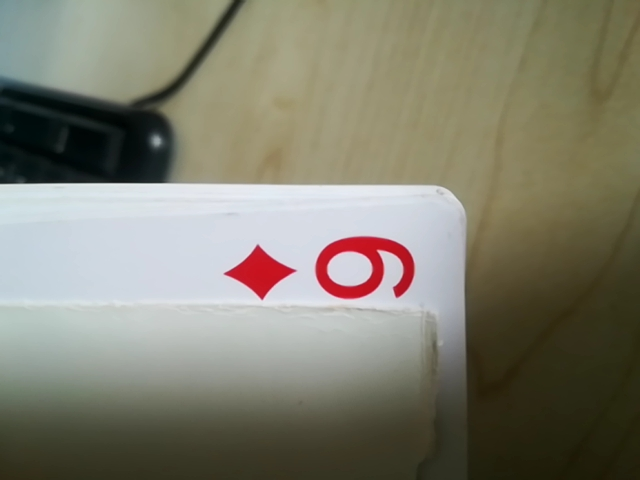fk 6: (211, 214, 433, 337)
